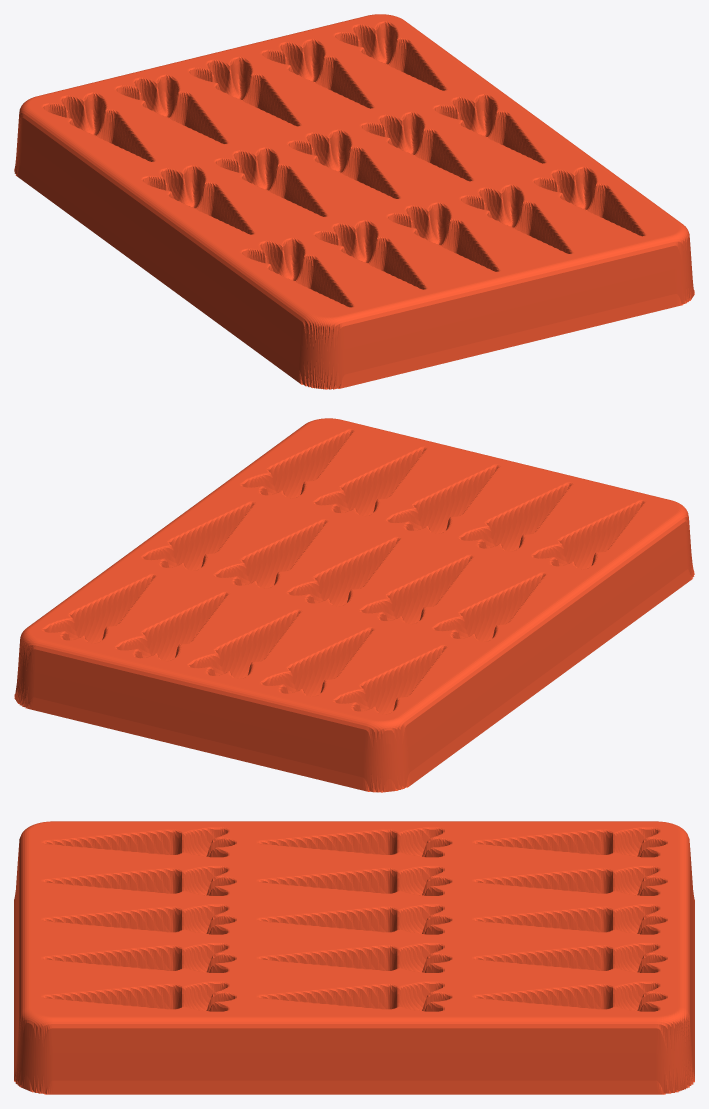
File: mold.glb
The picture shows the model from 3 angles, top to bottom: view 1: azimuth 30°, elevation 25°; view 2: azimuth 150°, elevation 25°; view 3: azimuth 270°, elevation 25°; orthographic projection. The views are drawn at different scales.
Visible parts, largest first — view 1: geometry_0; view 2: geometry_0; view 3: geometry_0.
Part boxes in pixels (bbox=[...]): geometry_0: bbox=[14, 14, 694, 389]; geometry_0: bbox=[14, 418, 694, 792]; geometry_0: bbox=[14, 821, 694, 1094].
Size of the model in its own units: 0.1155 by 0.0185 by 0.1602.
